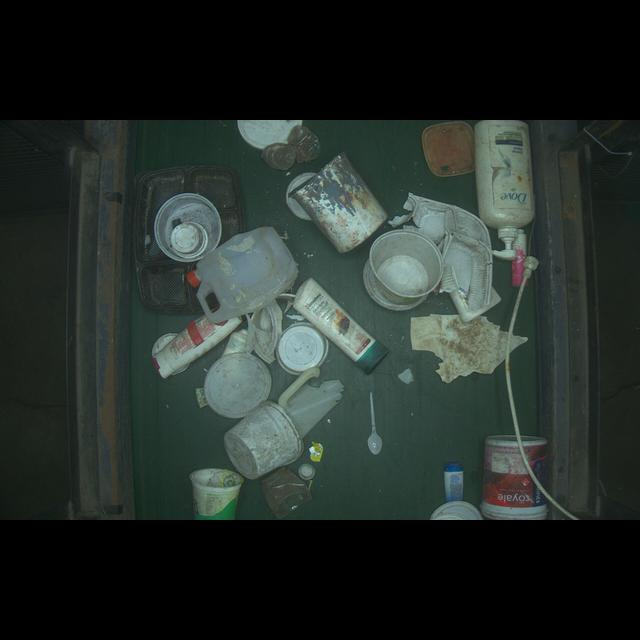PP: (361, 224, 447, 314)
